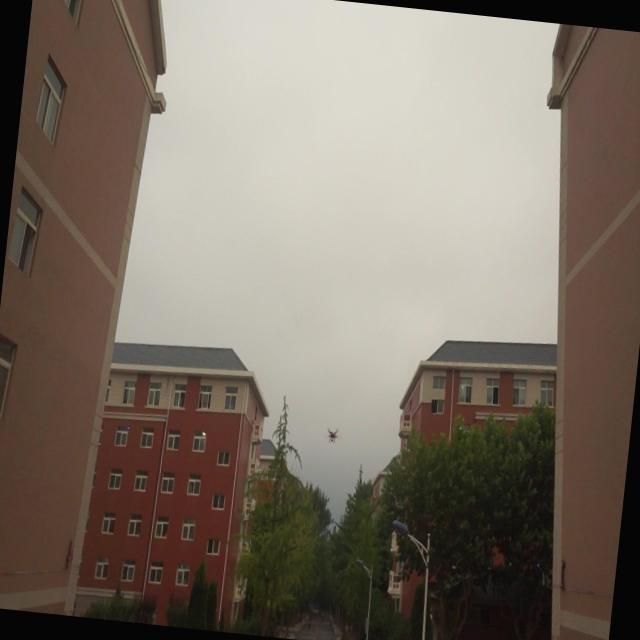drone: (324, 424, 341, 447)
